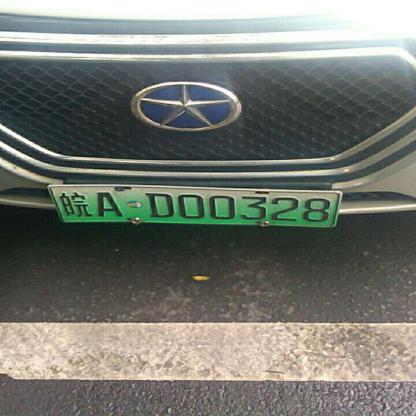lp: (50, 186, 66, 226)
